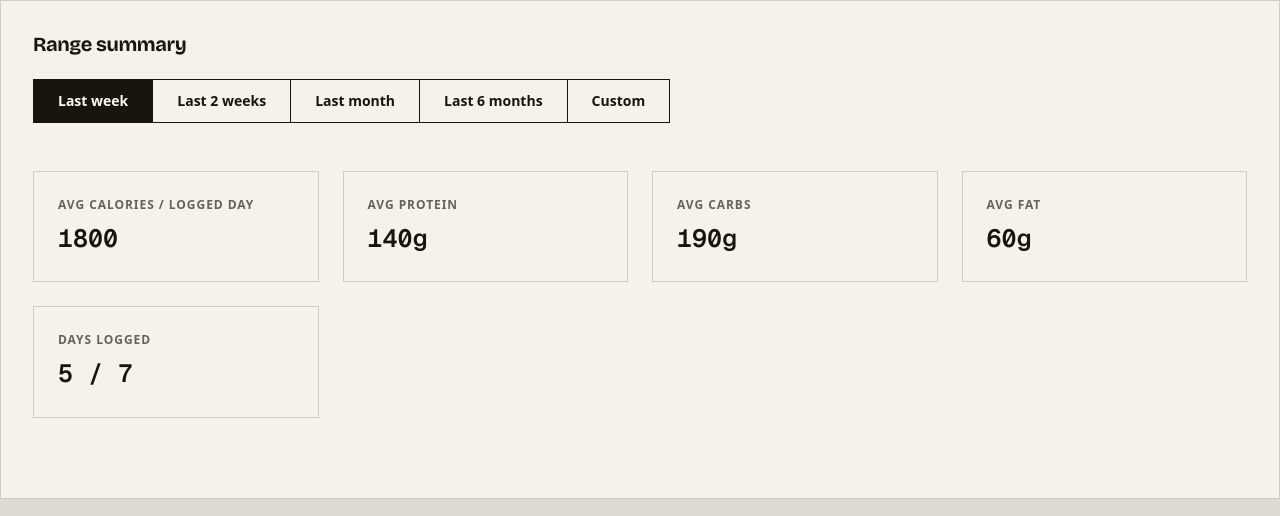
Test: RangeSummary › swaps the averages for the loader while a new range loads
Expected: the text "1800" is shown, [58,222,118,254]
Step 1. Click the button "Last month" → click(356, 101), box [291,80,420,122]
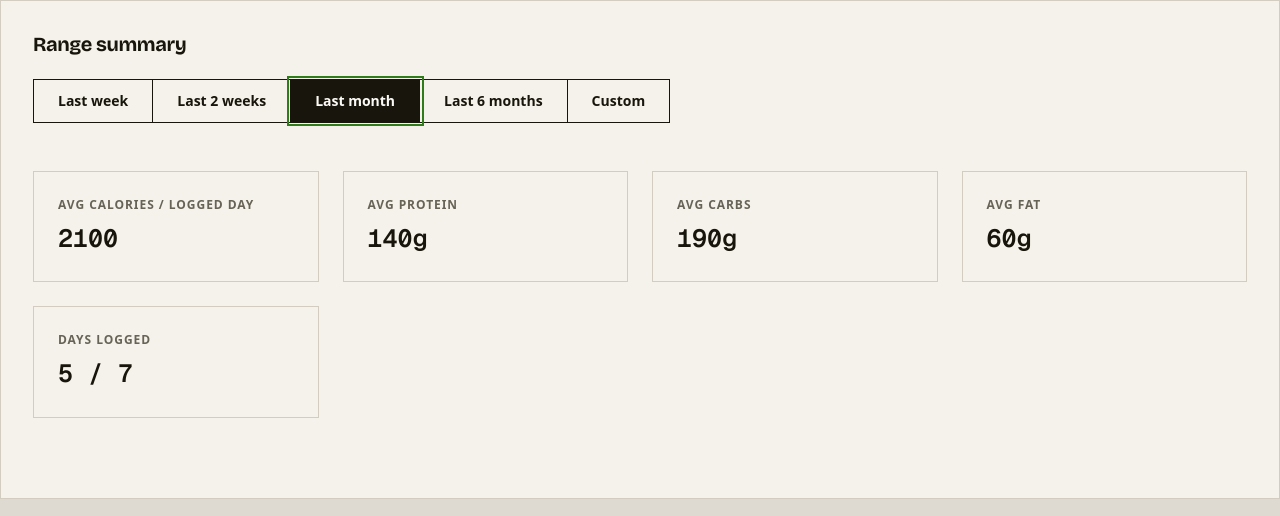
Expected: the text "Loading…" is shown, [33,171,1247,418]
Now the text "1800" is gone
Now the text "2100" is shown, box [58,222,118,254]
